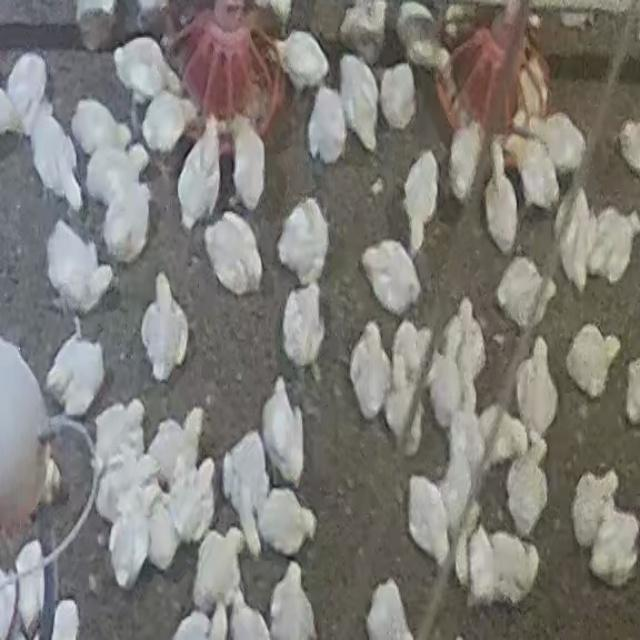chicken: (44, 217, 112, 316), (30, 108, 84, 214), (45, 324, 107, 415), (84, 143, 148, 230), (140, 270, 188, 382), (472, 530, 540, 608), (202, 210, 263, 296), (221, 434, 263, 557), (263, 375, 307, 491), (111, 35, 180, 107), (177, 120, 220, 232), (514, 335, 559, 439), (348, 320, 392, 426), (85, 457, 157, 521), (360, 243, 423, 315), (496, 256, 554, 333), (563, 322, 621, 398), (508, 130, 561, 213), (275, 202, 327, 286), (588, 504, 640, 588), (554, 187, 596, 290), (281, 283, 326, 379), (443, 452, 475, 587), (384, 350, 424, 457), (504, 443, 548, 540), (400, 149, 440, 254), (588, 206, 640, 286), (262, 486, 320, 557), (338, 54, 380, 152), (389, 6, 449, 73), (485, 141, 521, 248), (532, 110, 587, 180), (70, 95, 130, 158), (570, 469, 618, 547), (405, 475, 444, 570), (152, 409, 208, 474), (231, 113, 267, 214), (427, 342, 466, 434), (91, 403, 147, 467), (141, 90, 194, 156), (198, 528, 243, 605), (450, 300, 486, 391), (6, 52, 48, 129), (365, 579, 418, 640), (280, 28, 330, 92), (168, 468, 211, 542), (271, 560, 309, 640), (391, 318, 429, 398), (14, 540, 46, 632), (448, 120, 483, 202), (482, 409, 530, 467), (105, 516, 143, 589), (379, 61, 418, 132), (308, 90, 345, 164), (339, 0, 387, 53), (455, 408, 490, 470), (518, 58, 550, 125), (74, 0, 119, 47), (233, 592, 274, 640), (147, 500, 175, 569), (0, 562, 18, 638), (617, 118, 640, 177), (49, 600, 80, 639), (168, 611, 206, 640), (207, 603, 225, 640)
